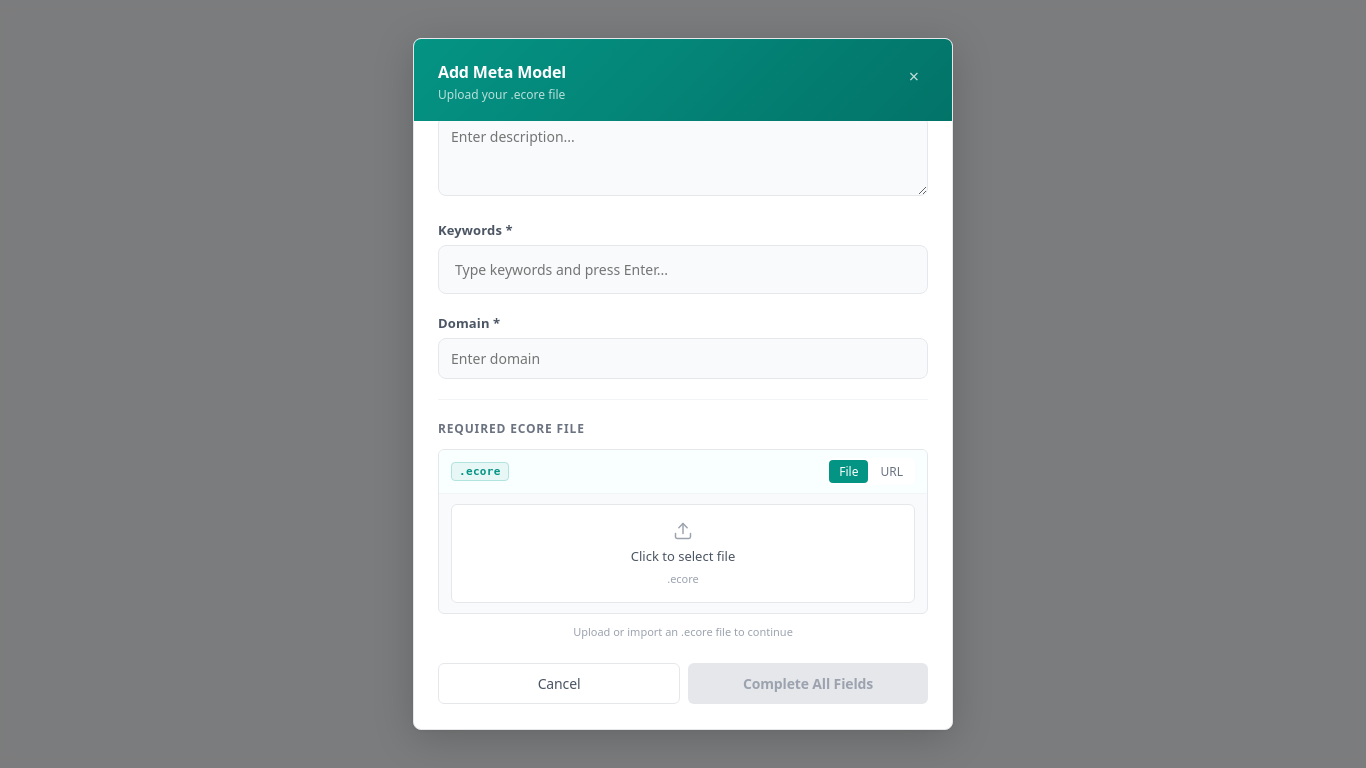
CreateModelModal › URL import mode › shows an error when .ecore URL has the wrong extension
(page scrolled)
Click the button "URL" at x=892, y=472, box [870,460,913,483]
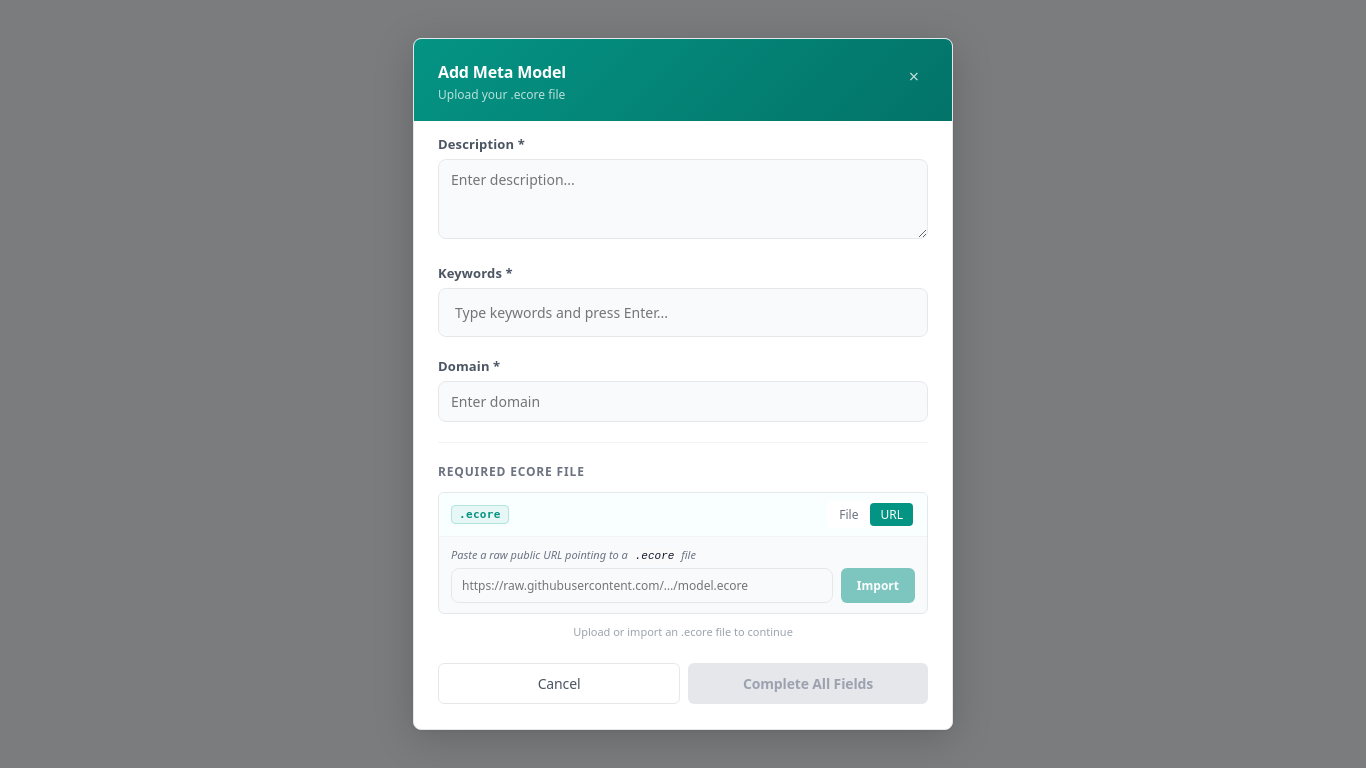
Type "https://example.com/model.txt" into the field with placeholder "https://raw.githubusercontent.com/…/model.ecore" at x=642, y=586, box [451,568,833,603]
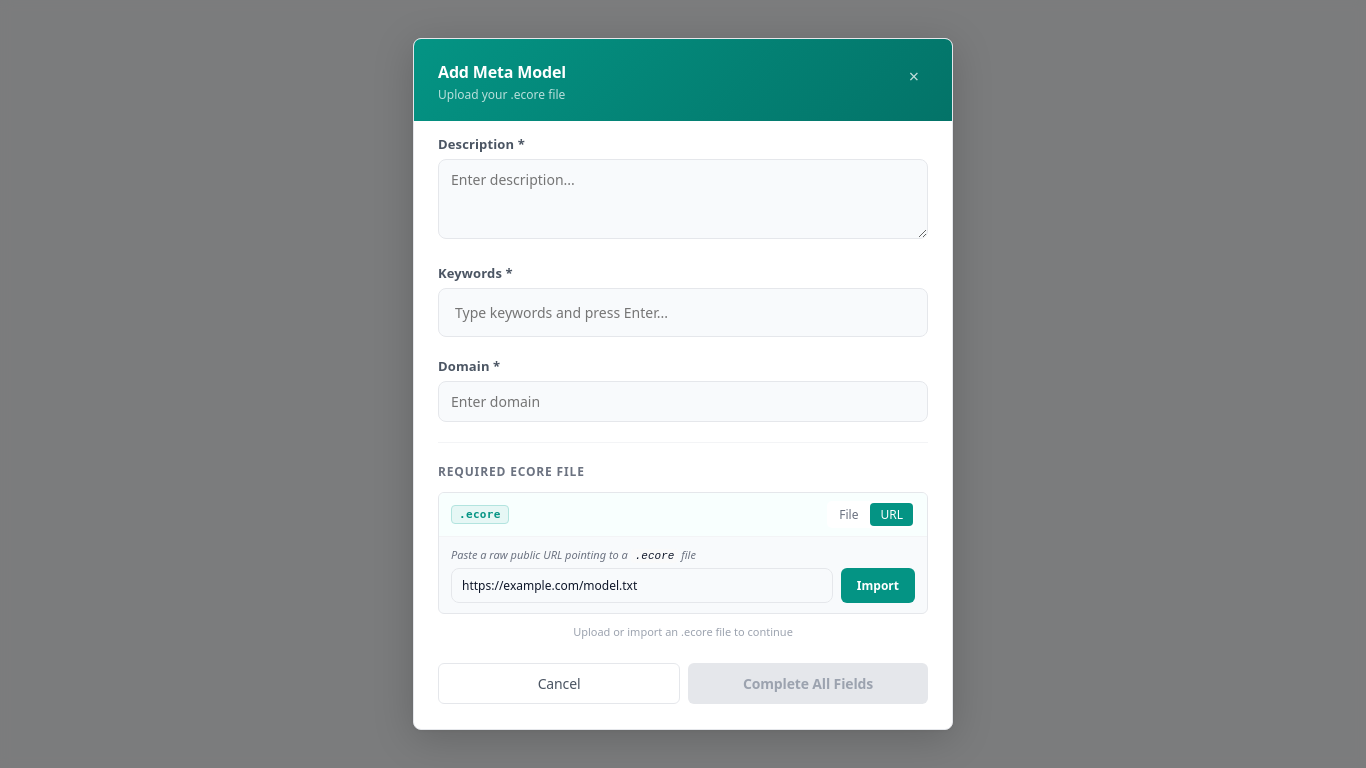
Click the button "Import" at x=878, y=586, box [841,568,915,603]
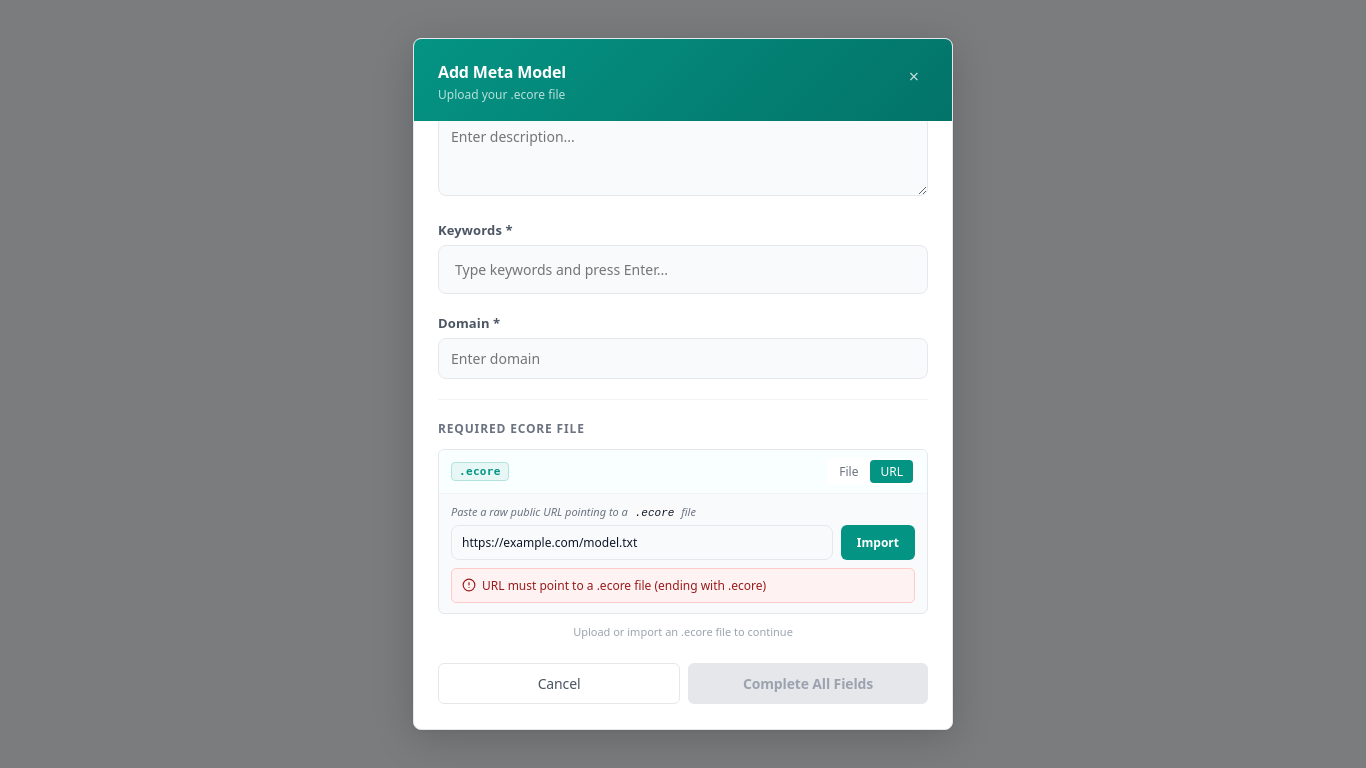
Check: the text "URL must point to a .ecore file (ending with .ecore)" is shown, box [482,577,766,594]
